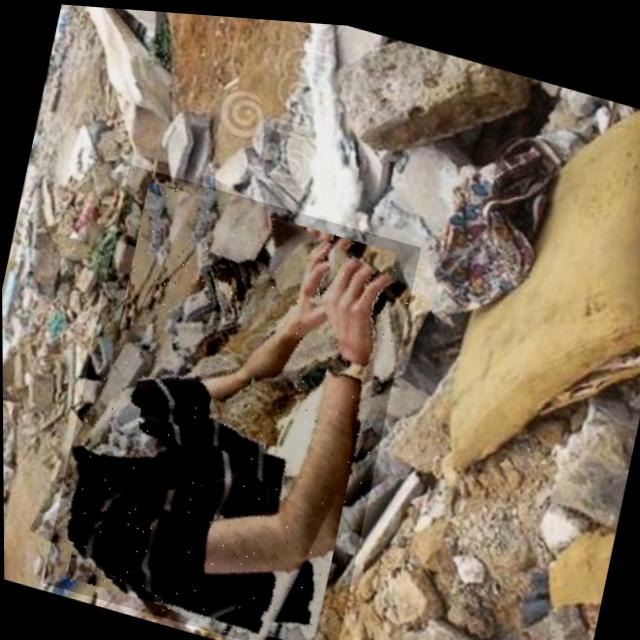Person in Rubble: (39, 155, 423, 640)
